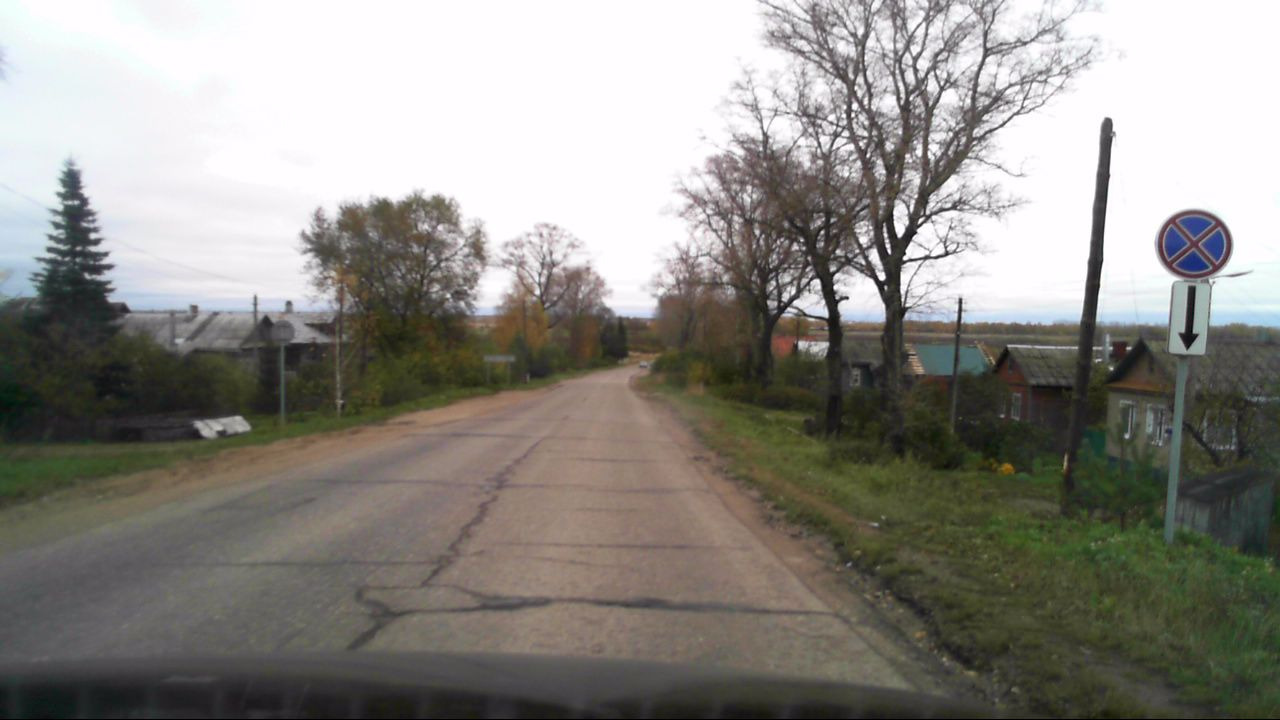No Parking: (1156, 209, 1233, 280)
